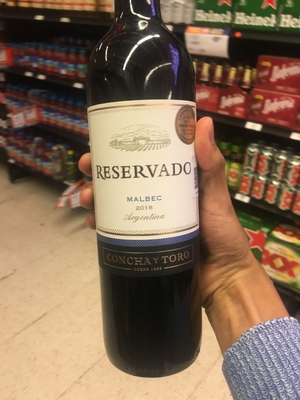reservado malbec: (84, 5, 212, 367)
